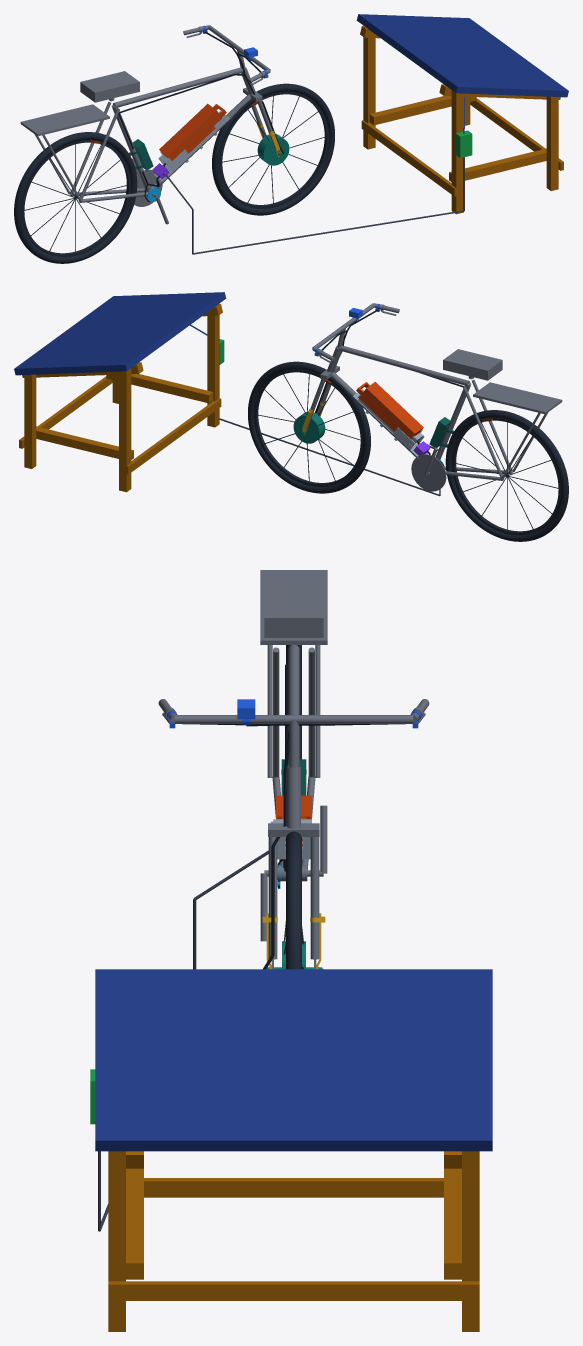
3 views of the same model, one above another, from view 1: azimuth 30°, elevation 25°; view 2: azimuth 150°, elevation 25°; view 3: azimuth 270°, elevation 25° (orthographic). The views are drawn at different scales.
Visible parts, largest first — view 1: Solar panel, 100 W, Donor wheels, Panel stand (local make), Donor roadster frame, fork and bars, SwapCell pack (not in kit cost), Charge cable, Wiring harness with fuse, Front hub motor, 250 W geared, SwapCell receiver cradle, V1 latch, Boost MPPT charger, Controller, sealed; view 2: Solar panel, 100 W, Donor wheels, Panel stand (local make), Donor roadster frame, fork and bars, SwapCell pack (not in kit cost), Front hub motor, 250 W geared, SwapCell receiver cradle, V1 latch, Charge cable, Controller, sealed, Wiring harness with fuse; view 3: Solar panel, 100 W, Panel stand (local make), Donor roadster frame, fork and bars, Donor wheels, Wiring harness with fuse, Charge cable.
Boxes of the visible parts, bbox=[...] form: Solar panel, 100 W: bbox=[356, 14, 568, 133]; Donor wheels: bbox=[14, 83, 334, 263]; Panel stand (local make): bbox=[360, 25, 563, 214]; Donor roadster frame, fork and bars: bbox=[20, 25, 277, 224]; SwapCell pack (not in kit cost): bbox=[159, 103, 226, 160]; Charge cable: bbox=[165, 157, 464, 254]; Wiring harness with fuse: bbox=[118, 31, 284, 201]; Front hub motor, 250 W geared: bbox=[257, 134, 289, 165]; SwapCell receiver cradle, V1 latch: bbox=[154, 111, 230, 181]; Boost MPPT charger: bbox=[456, 130, 472, 158]; Controller, sealed: bbox=[129, 139, 153, 170]; Solar panel, 100 W: bbox=[14, 292, 226, 375]; Donor wheels: bbox=[248, 361, 568, 541]; Panel stand (local make): bbox=[19, 303, 222, 492]; Donor roadster frame, fork and bars: bbox=[305, 303, 562, 491]; SwapCell pack (not in kit cost): bbox=[356, 381, 423, 438]; Front hub motor, 250 W geared: bbox=[293, 412, 325, 443]; SwapCell receiver cradle, V1 latch: bbox=[352, 389, 428, 459]; Charge cable: bbox=[219, 418, 440, 496]; Controller, sealed: bbox=[429, 417, 453, 447]; Wiring harness with fuse: bbox=[315, 309, 463, 466]; Solar panel, 100 W: bbox=[95, 969, 492, 1151]; Panel stand (local make): bbox=[108, 1151, 479, 1331]; Donor roadster frame, fork and bars: bbox=[158, 570, 429, 969]; Donor wheels: bbox=[284, 645, 303, 969]; Wiring harness with fuse: bbox=[182, 664, 405, 969]; Charge cable: bbox=[98, 850, 268, 1231].
Bounding box in the file's own units: 2.94 × 1 × 1.01.
